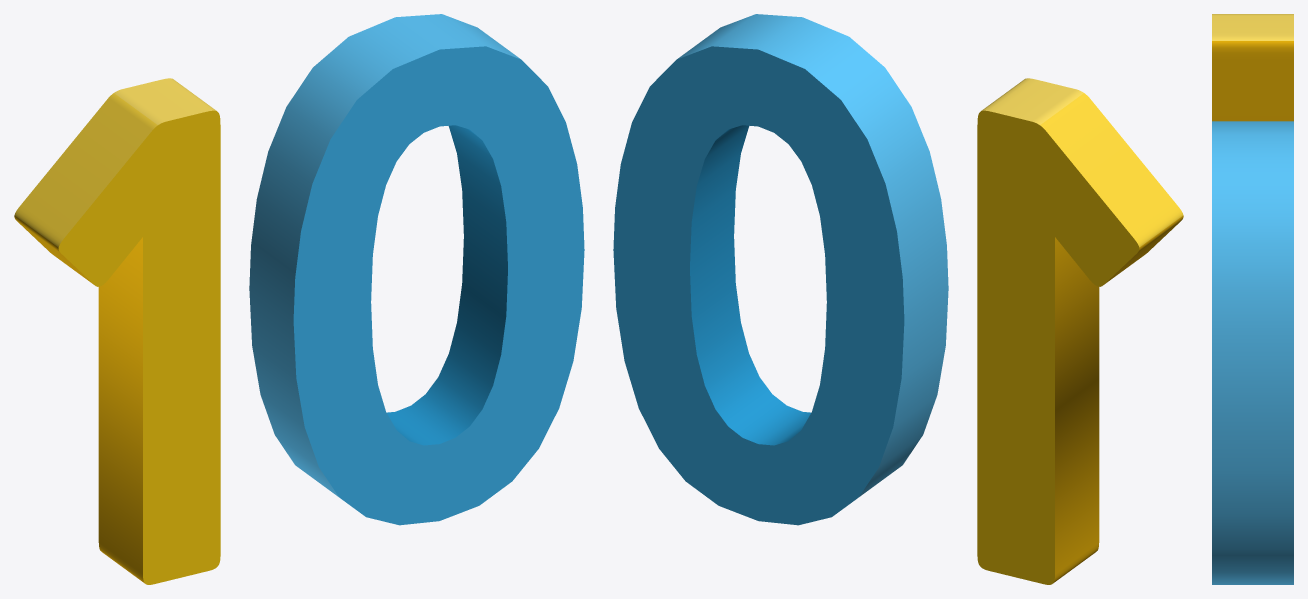
The model's file is number_ten.FBX.
The picture shows the model from 3 angles, left to right: view 1: azimuth 30°, elevation 25°; view 2: azimuth 150°, elevation 25°; view 3: azimuth 270°, elevation 25°; orthographic projection. The views are drawn at different scales.
Parts seen in each view (by area): view 1: number_ten; view 2: number_ten; view 3: number_ten.
Part boxes in pixels (x1,y1,x2,y2): number_ten: (14, 14, 584, 584); number_ten: (613, 14, 1183, 584); number_ten: (1212, 14, 1293, 584).
Bounding box in the file's own units: 46.39 × 39.75 × 6.75.
